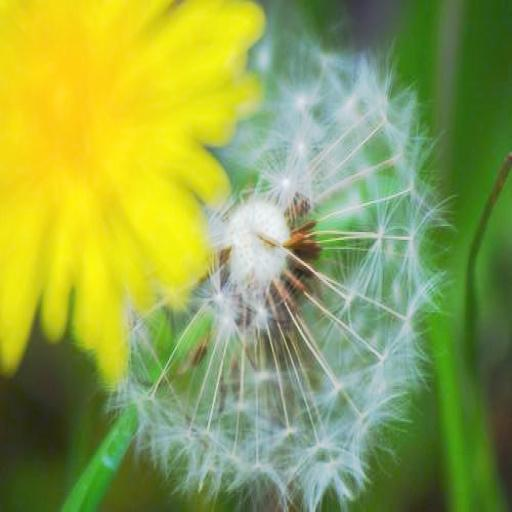dandelion: (122, 14, 441, 512)
